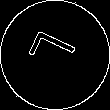L_SE: (25, 31, 85, 79)
